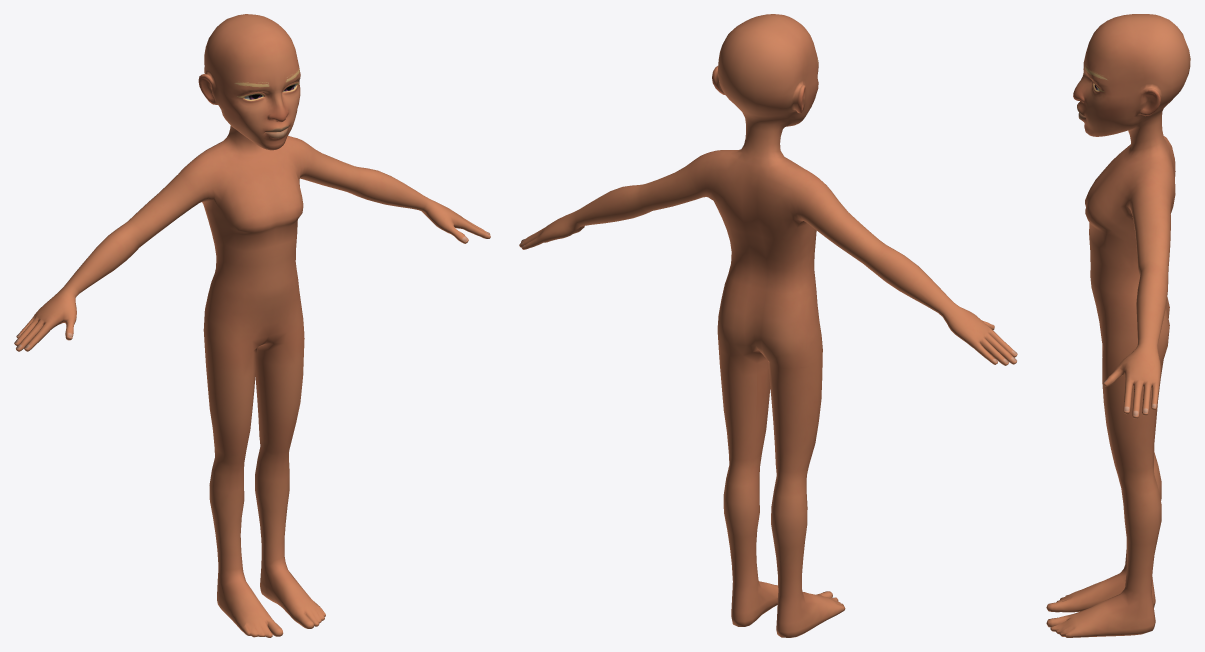
Rendered from frame_0099.glb.
The picture shows the model from 3 angles, left to right: view 1: azimuth 30°, elevation 25°; view 2: azimuth 150°, elevation 25°; view 3: azimuth 270°, elevation 25°; orthographic projection. The views are drawn at different scales.
Visible parts, largest first — view 1: frame_0099_head_geo; view 2: frame_0099_head_geo; view 3: frame_0099_head_geo.
Part boxes in pixels (x1=…): frame_0099_head_geo: x1=14, y1=14, x2=490, y2=637; frame_0099_head_geo: x1=519, y1=14, x2=1017, y2=637; frame_0099_head_geo: x1=1046, y1=14, x2=1190, y2=637.
Bounding box in the file's own units: 1.28 × 1.5 × 0.3253.
Materials: 3 (3 with a texture image).
